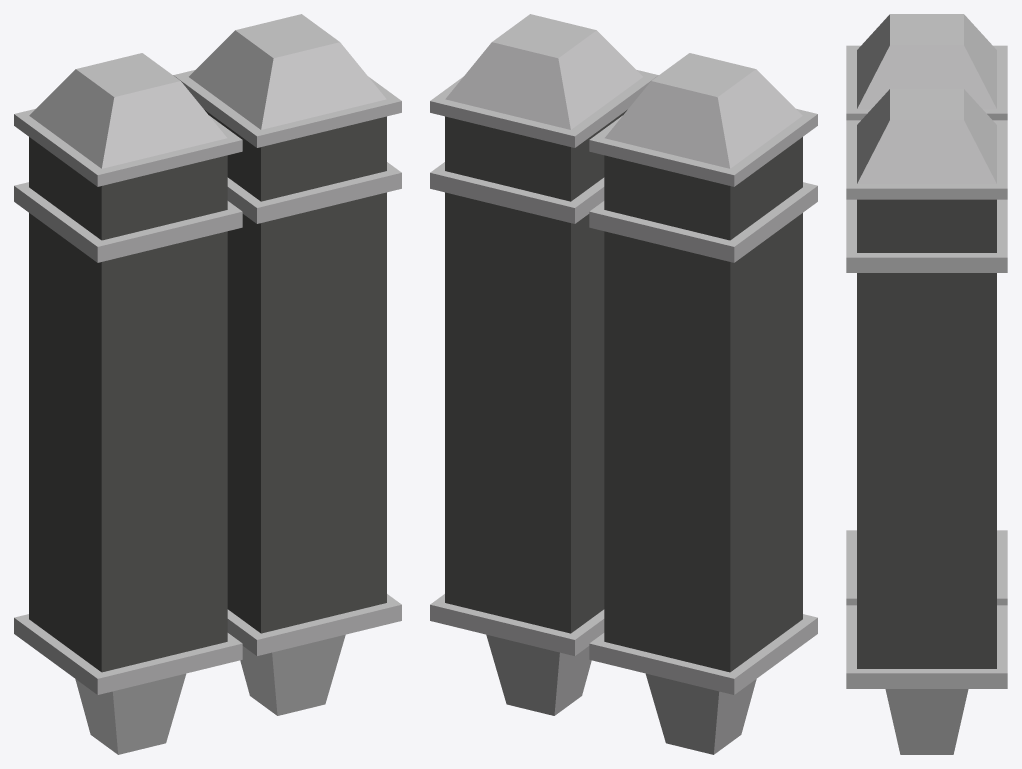
The model's file is Tanks_01.fbx.
The picture shows the model from 3 angles, left to right: view 1: azimuth 30°, elevation 25°; view 2: azimuth 150°, elevation 25°; view 3: azimuth 270°, elevation 25°; orthographic projection. The views are drawn at different scales.
Parts seen in each view (by area): view 1: Tanks_01; view 2: Tanks_01; view 3: Tanks_01.
Boxes of the visible parts, x1,y1,x2,y2 form: Tanks_01: [14, 14, 401, 754]; Tanks_01: [430, 14, 817, 754]; Tanks_01: [846, 14, 1007, 754].
Size of the model in its own units: 82.86 by 173 by 39.47.
